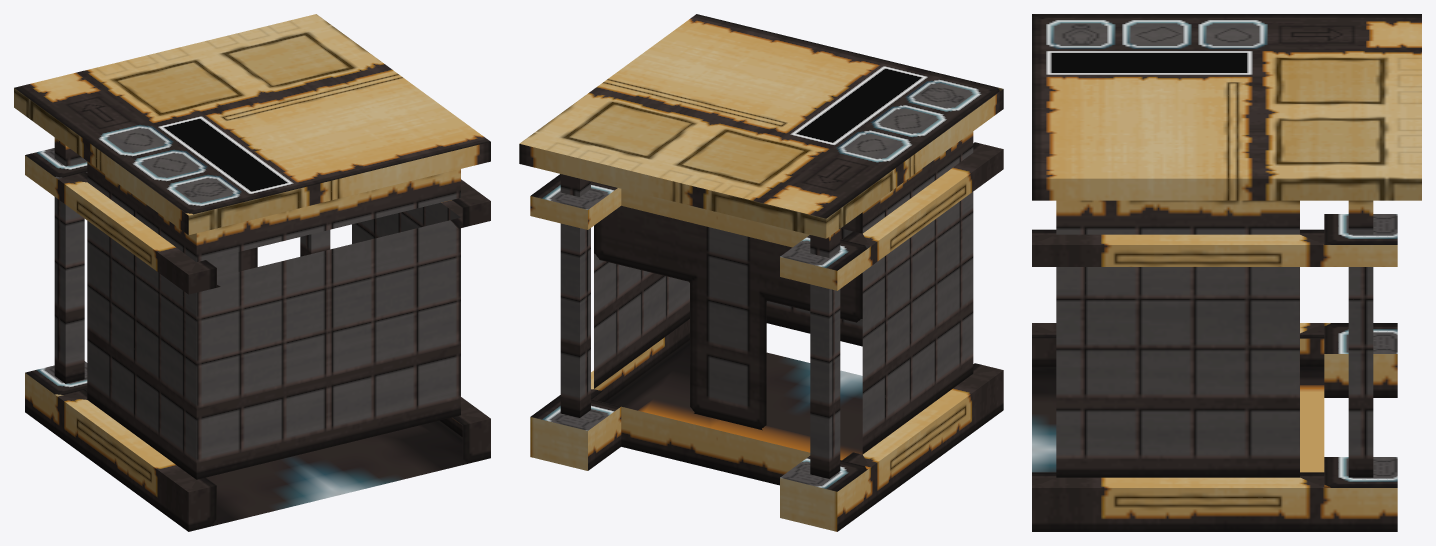
File: desk_single.obj
The picture shows the model from 3 angles, left to right: view 1: azimuth 30°, elevation 25°; view 2: azimuth 150°, elevation 25°; view 3: azimuth 270°, elevation 25°; orthographic projection. The views are drawn at different scales.
Visible parts, largest first — view 1: DESK_SINGLE_MAIN.006; view 2: DESK_SINGLE_MAIN.006; view 3: DESK_SINGLE_MAIN.006.
Boxes of the visible parts, <box> form: DESK_SINGLE_MAIN.006: <box>14,14,490,531</box>; DESK_SINGLE_MAIN.006: <box>519,14,1003,531</box>; DESK_SINGLE_MAIN.006: <box>1032,14,1421,531</box>.
Bounding box in the file's own units: 1 × 1 × 1.
